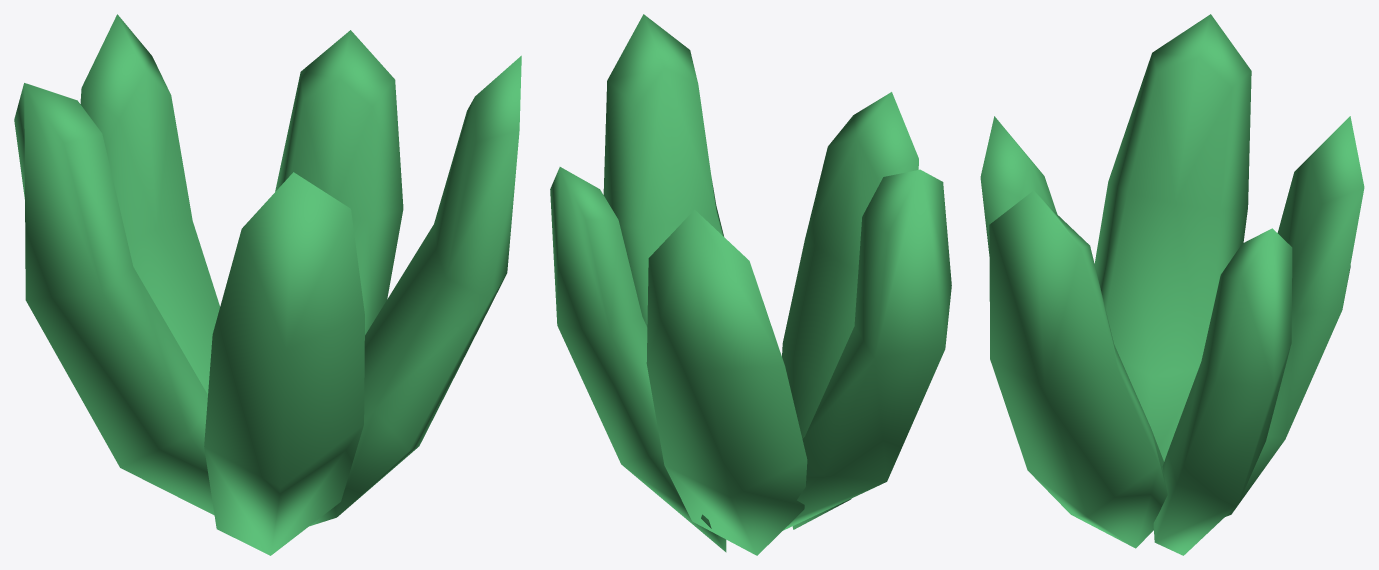
The model's file is Plant_A_03_LOD2.gltf.
3 renders of one model, left to right at view 1: azimuth 30°, elevation 25°; view 2: azimuth 150°, elevation 25°; view 3: azimuth 270°, elevation 25°, orthographic. The views are drawn at different scales.
Visible parts, largest first — view 1: Plant_A_03_LOD2_Cube.709; view 2: Plant_A_03_LOD2_Cube.709; view 3: Plant_A_03_LOD2_Cube.709.
Part boxes in pixels (<box>): Plant_A_03_LOD2_Cube.709: <box>14,14,521,555</box>; Plant_A_03_LOD2_Cube.709: <box>550,14,951,555</box>; Plant_A_03_LOD2_Cube.709: <box>980,14,1364,555</box>.
Bounding box in the file's own units: 4.51 × 4.91 × 3.86.
Materials: 1 (1 with a texture image).
